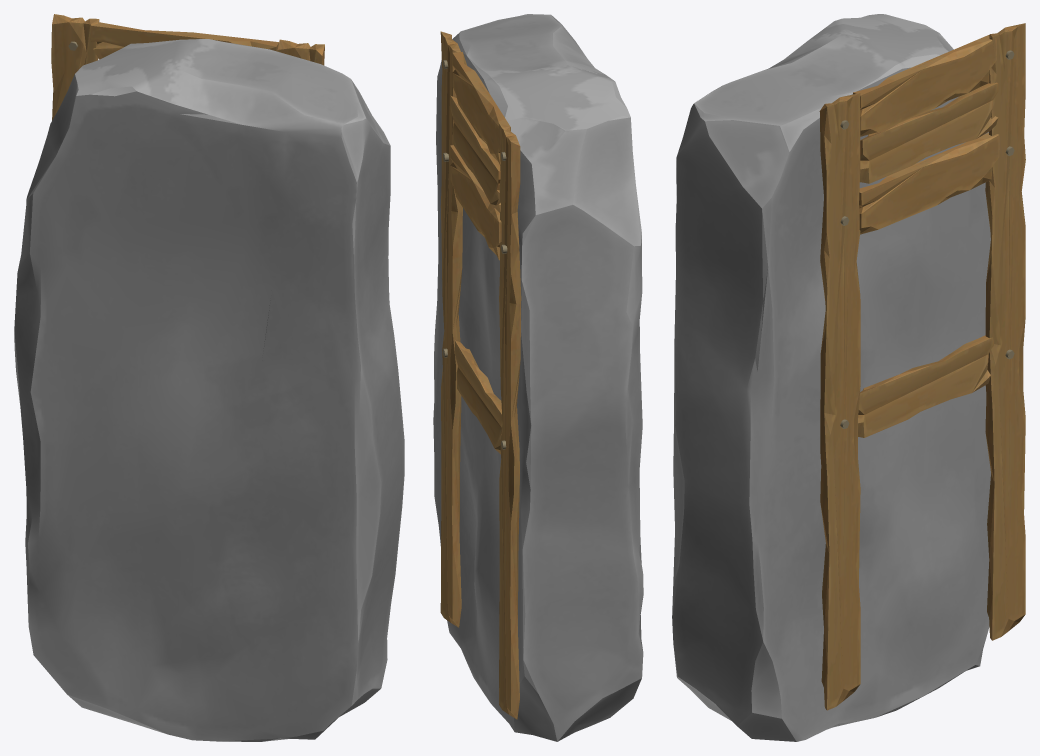
File: GrandmaBossWall1.fbx
3 renders of one model, left to right at view 1: azimuth 30°, elevation 25°; view 2: azimuth 150°, elevation 25°; view 3: azimuth 270°, elevation 25°, orthographic. The views are drawn at different scales.
Parts seen in each view (by area): view 1: Rock_MainSlab2, bridgeWood01_uv1 (20), plank04_uv1 (6), bridgeWood01_uv1 (10); view 2: Rock_MainSlab2, bridgeWood01_uv1 (20), bridgeWood01_uv1 (10), plank04_uv1 (6), plank01_uv1 (6), plank04_uv1 (7), plank01_uv1 (7); view 3: Rock_MainSlab2, bridgeWood01_uv1 (10), bridgeWood01_uv1 (20), plank04_uv1 (7), plank04_uv1 (6), plank01_uv1 (7), plank01_uv1 (6).
Part boxes in pixels (left/top/right/bottom): Rock_MainSlab2: left=14, top=39, right=404, bottom=741; bridgeWood01_uv1 (20): left=51, top=14, right=99, bottom=120; plank04_uv1 (6): left=90, top=22, right=278, bottom=59; bridgeWood01_uv1 (10): left=277, top=39, right=324, bottom=65; Rock_MainSlab2: left=433, top=14, right=643, bottom=741; bridgeWood01_uv1 (20): left=499, top=123, right=521, bottom=719; bridgeWood01_uv1 (10): left=440, top=31, right=462, bottom=627; plank04_uv1 (6): left=452, top=52, right=510, bottom=165; plank01_uv1 (6): left=455, top=340, right=502, bottom=454; plank04_uv1 (7): left=450, top=145, right=501, bottom=260; plank01_uv1 (7): left=450, top=96, right=500, bottom=212; Rock_MainSlab2: left=672, top=14, right=990, bottom=741; bridgeWood01_uv1 (10): left=819, top=93, right=860, bottom=710; bridgeWood01_uv1 (20): left=985, top=23, right=1025, bottom=640; plank04_uv1 (7): left=859, top=132, right=999, bottom=234; plank04_uv1 (6): left=853, top=35, right=996, bottom=136; plank01_uv1 (7): left=860, top=82, right=998, bottom=183; plank01_uv1 (6): left=858, top=335, right=993, bottom=437.
Bounding box in the file's own units: 7.24 × 15.29 × 7.5.
